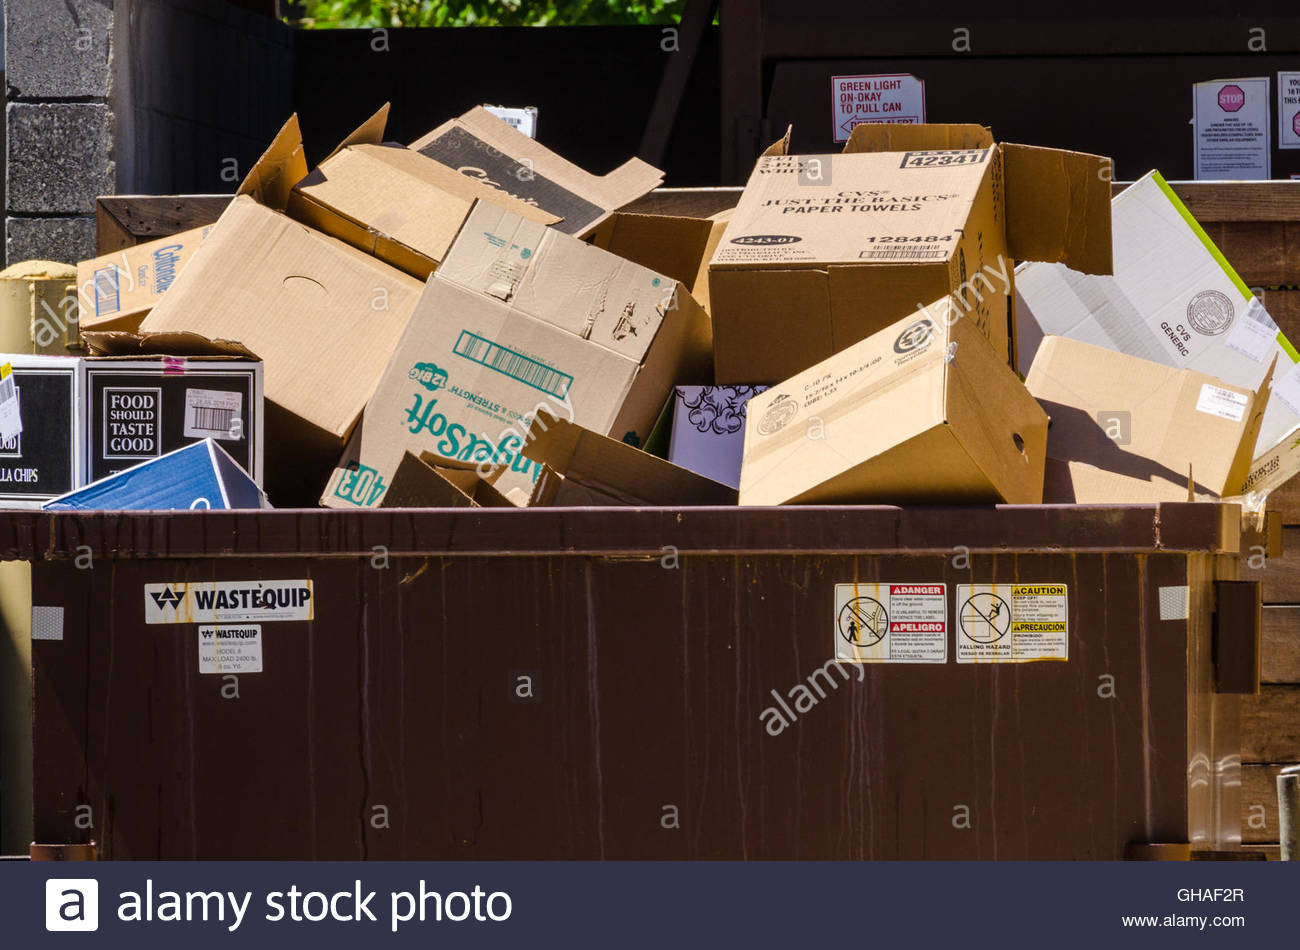Dumpster: (1, 496, 1272, 862)
